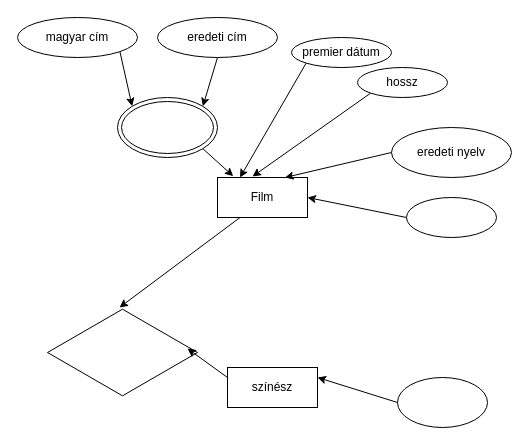
The diagram is 529 pixels wide and 445 high, and some of its shapes have lost their labels. Here are the shapes that lost their labels. From the top down, the centre of each, then its label:
point (167, 127): Cím
point (451, 217): 3D
point (122, 352): kijátszott benne
point (442, 402): Név
